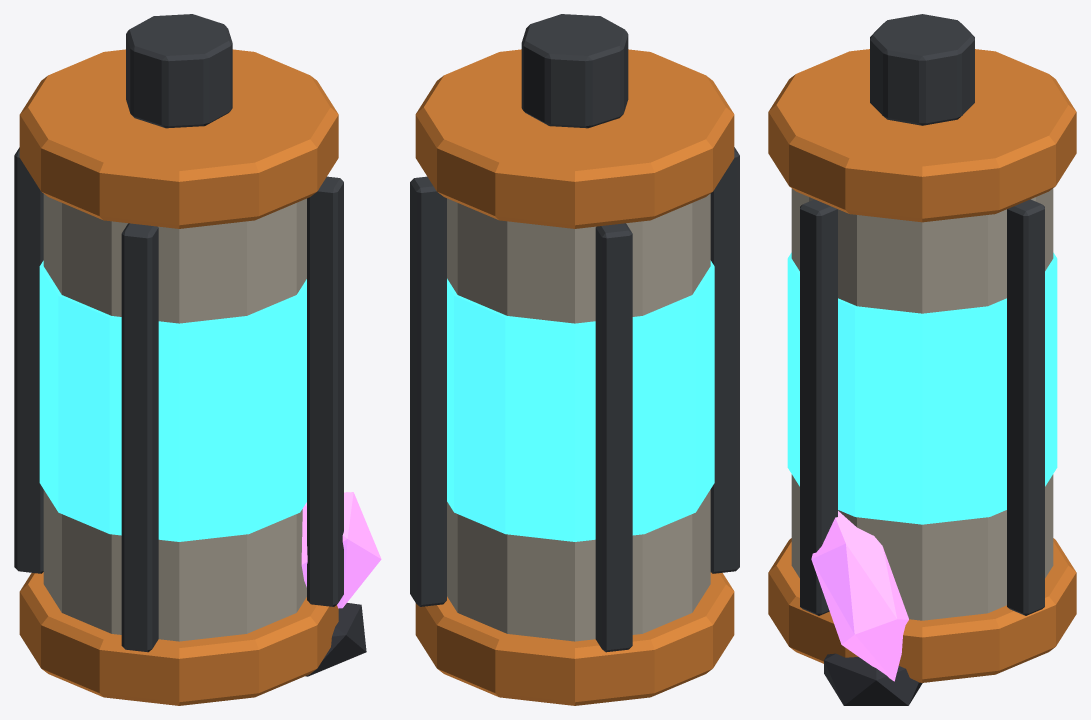
Rendered from TC_PICKUP_PowerCore_V1.gltf.
3 views of the same model, side by side, from view 1: azimuth 30°, elevation 25°; view 2: azimuth 150°, elevation 25°; view 3: azimuth 270°, elevation 25° (orthographic). The views are drawn at different scales.
Parts seen in each view (by area): view 1: TC_Core_Window, TC_Core_Body, TC_Core_Cap_1, TC_Core_Cap_0, TC_Core_Rib_2, TC_Core_Rib_3, TC_Core_Rib_1, TC_Core_Terminal, TC_Core_Growth, TC_Core_GrowthBase; view 2: TC_Core_Window, TC_Core_Body, TC_Core_Cap_1, TC_Core_Cap_0, TC_Core_Rib_1, TC_Core_Rib_0, TC_Core_Rib_2, TC_Core_Terminal; view 3: TC_Core_Window, TC_Core_Cap_1, TC_Core_Body, TC_Core_Rib_0, TC_Core_Cap_0, TC_Core_Rib_3, TC_Core_Terminal, TC_Core_Growth, TC_Core_GrowthBase.
Boxes of the visible parts, x1,y1,x2,y2 form: TC_Core_Window: (39,260,306,541); TC_Core_Body: (43,194,306,641); TC_Core_Cap_1: (19,49,338,228); TC_Core_Cap_0: (19,572,338,705); TC_Core_Rib_2: (121,223,158,652); TC_Core_Rib_3: (307,176,343,606); TC_Core_Rib_1: (14,147,43,573); TC_Core_Terminal: (126,14,232,128); TC_Core_Growth: (301,492,381,608); TC_Core_GrowthBase: (305,603,366,676); TC_Core_Window: (447,260,714,541); TC_Core_Body: (447,194,710,641); TC_Core_Cap_1: (415,49,734,228); TC_Core_Cap_0: (415,572,734,705); TC_Core_Rib_1: (595,223,632,652); TC_Core_Rib_0: (410,176,446,606); TC_Core_Rib_2: (710,147,739,573); TC_Core_Terminal: (521,14,628,128); TC_Core_Window: (787,252,1057,524); TC_Core_Cap_1: (768,49,1076,222); TC_Core_Body: (791,188,1053,620); TC_Core_Rib_0: (1007,199,1044,615); TC_Core_Cap_0: (768,538,1076,682); TC_Core_Rib_3: (800,199,837,615); TC_Core_Terminal: (870,14,974,125); TC_Core_Growth: (811,511,908,681); TC_Core_GrowthBase: (824,653,922,705).
Size of the model in its own units: 0.4421 by 0.89 by 0.4.
